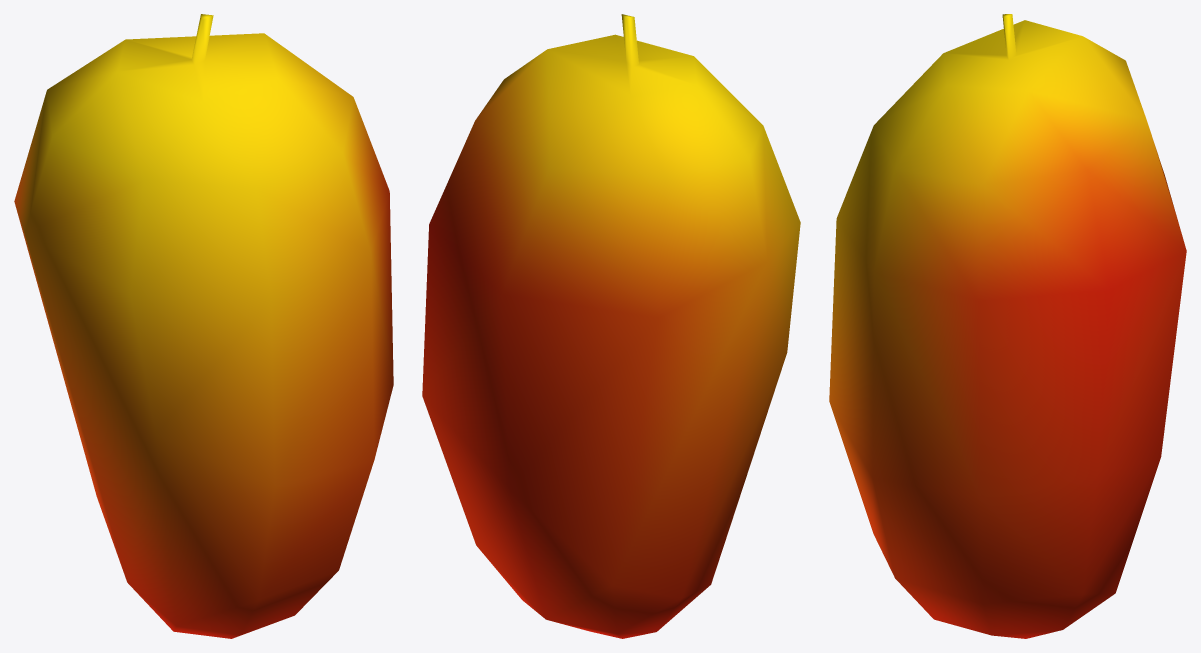
Rendered from mango.glb.
3 renders of one model, left to right at view 1: azimuth 30°, elevation 25°; view 2: azimuth 150°, elevation 25°; view 3: azimuth 270°, elevation 25°, orthographic.
Visible parts, largest first — view 1: mango; view 2: mango; view 3: mango.
Part boxes in pixels (x1,y1,x2,y2): mango: (14,14,393,638); mango: (422,14,800,638); mango: (829,14,1186,638).
Size of the model in its own units: 0.2534 by 0.4453 by 0.2363.
Materials: 1 (1 with a texture image).
